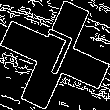L_SW: (30, 25, 80, 85)
